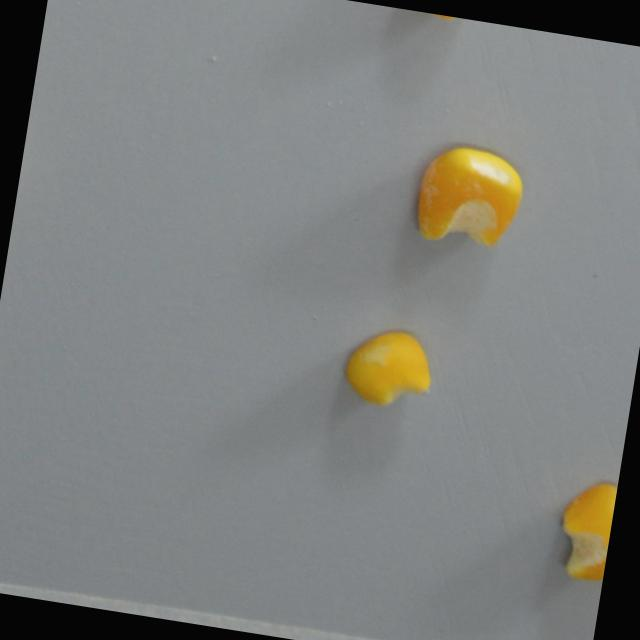no_canjicado: (407, 139, 530, 255), (337, 323, 439, 415), (549, 476, 618, 585)
